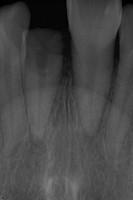Furcation Involvement: (28, 134, 46, 154)
